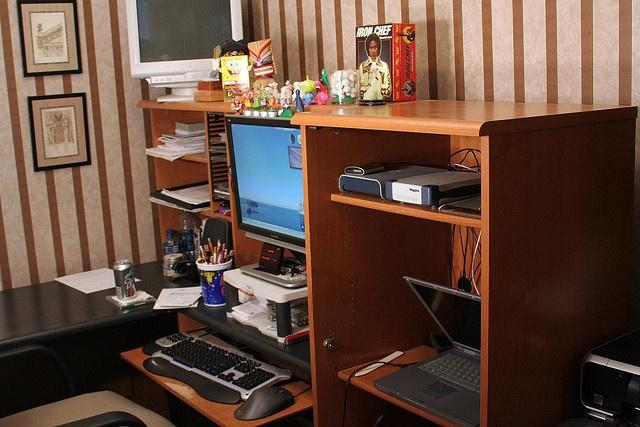AIO PC-Monitor-TV: (223, 113, 308, 256)
Rak: (306, 125, 488, 426)
